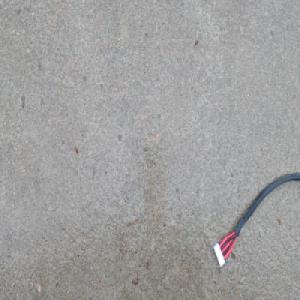Wire: (212, 171, 300, 268)
